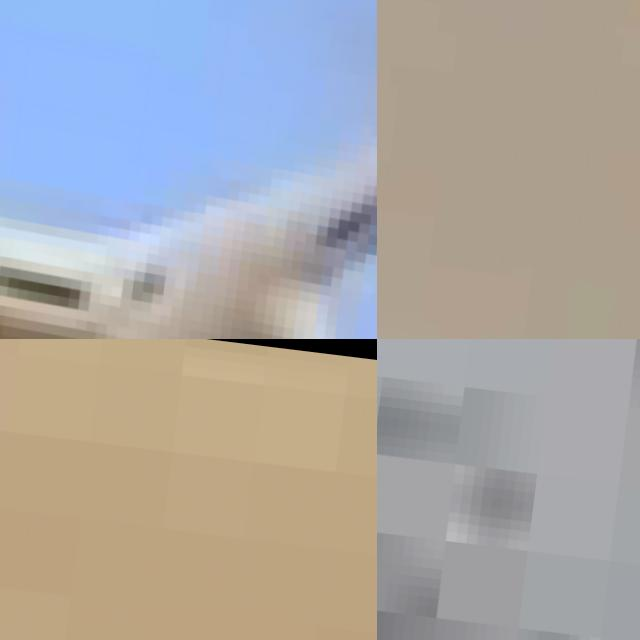drone: (0, 0, 377, 339)
